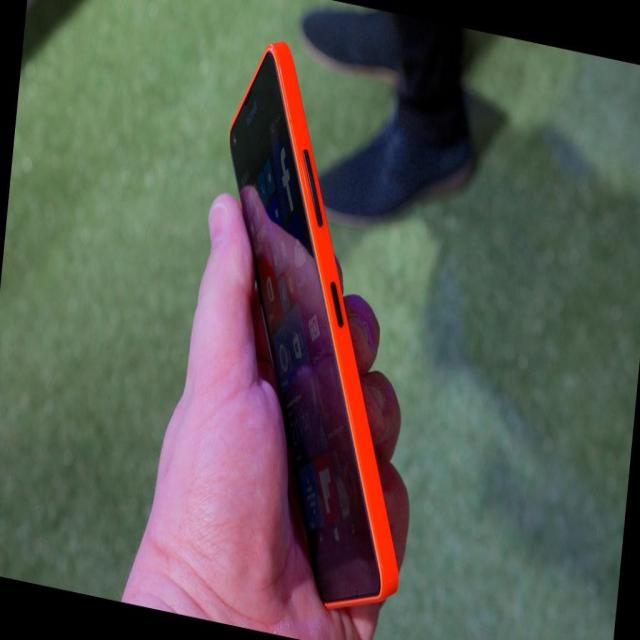phone: (227, 36, 400, 602)
